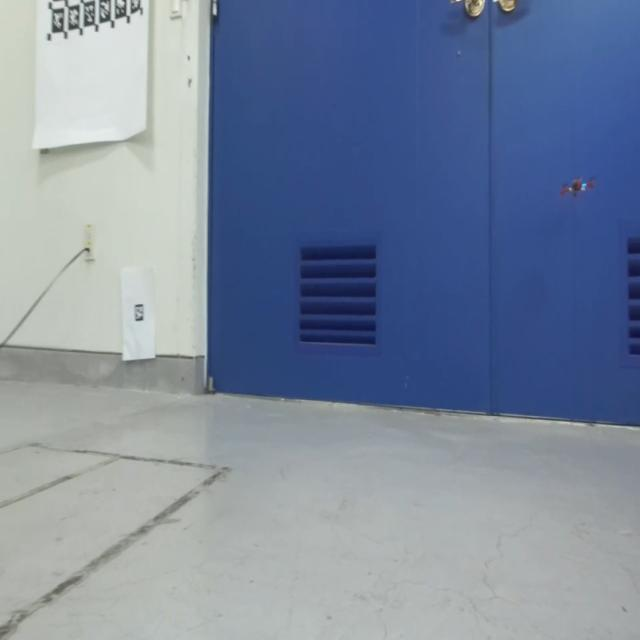crazyflie: (559, 166, 599, 205)
